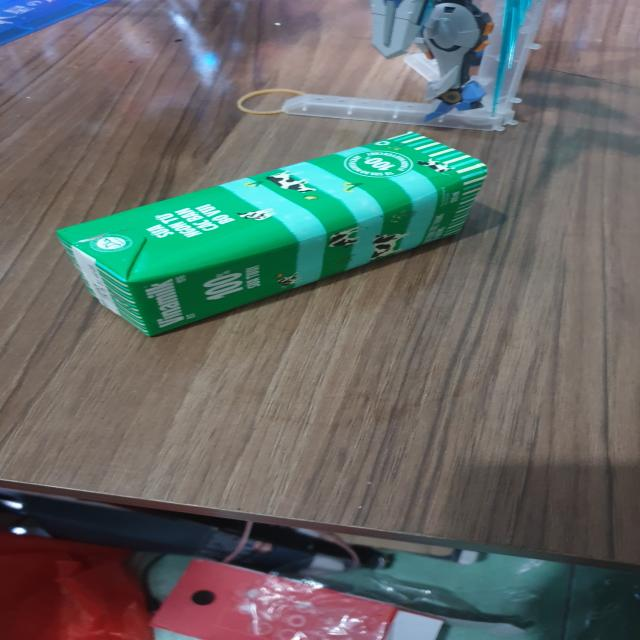Vina: (51, 130, 494, 341)
